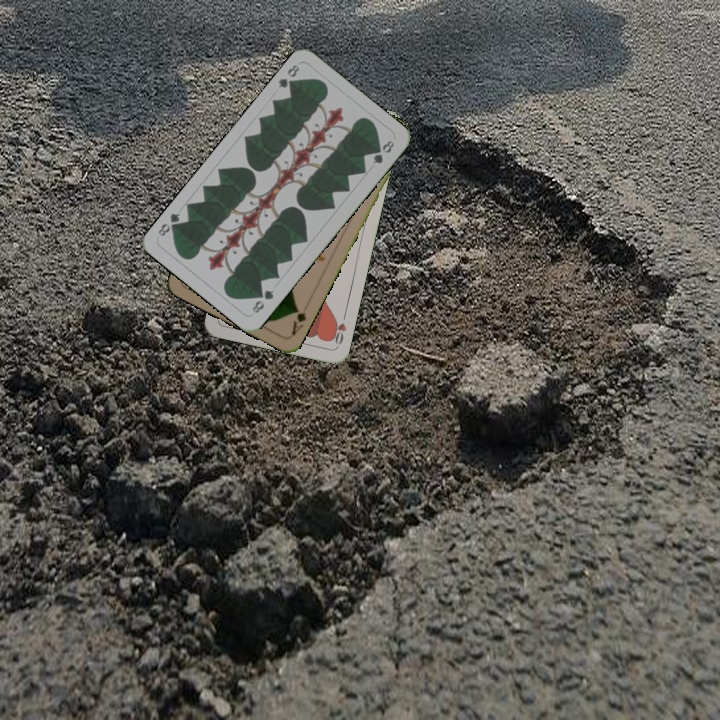G8: (274, 61, 302, 92), (248, 286, 276, 316)
GA: (287, 304, 309, 338)
HO: (327, 309, 349, 349)
